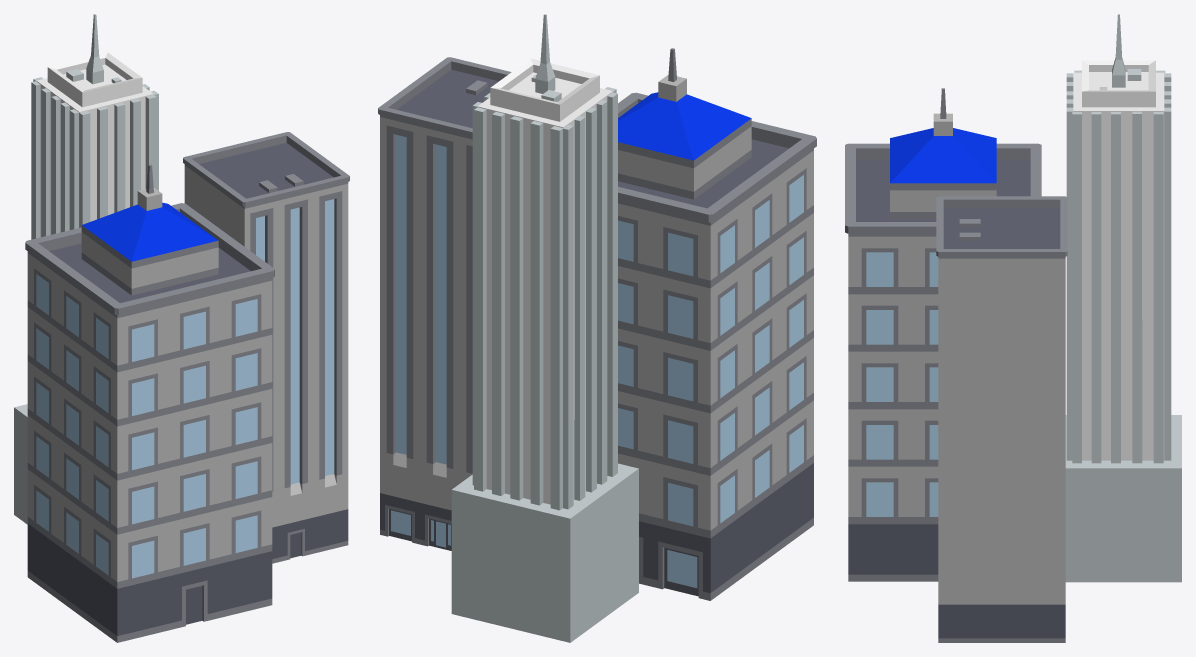
Rendered from building_city_friendly.glb.
The picture shows the model from 3 angles, left to right: view 1: azimuth 30°, elevation 25°; view 2: azimuth 150°, elevation 25°; view 3: azimuth 270°, elevation 25°; orthographic projection. The views are drawn at different scales.
Parts seen in each view (by area): view 1: skyscraperE, skyscraperF, Node; view 2: skyscraperE, Node, skyscraperF; view 3: skyscraperF, Node, skyscraperE.
Boxes of the visible parts, x1,y1,x2,y2 form: skyscraperE: (25, 164, 274, 642); skyscraperF: (183, 132, 349, 563); Node: (14, 14, 158, 524); skyscraperE: (618, 48, 816, 600); Node: (451, 14, 638, 642); skyscraperF: (378, 57, 511, 550); skyscraperF: (936, 196, 1067, 642); Node: (1065, 14, 1181, 582); skyscraperE: (845, 88, 1041, 581).
Size of the model in its own units: 0.8779 by 1.54 by 0.8684.
